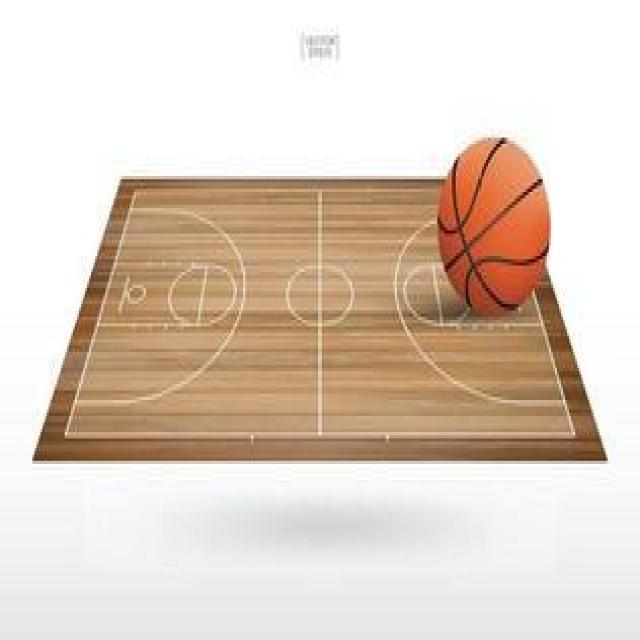ball: (432, 118, 558, 319)
